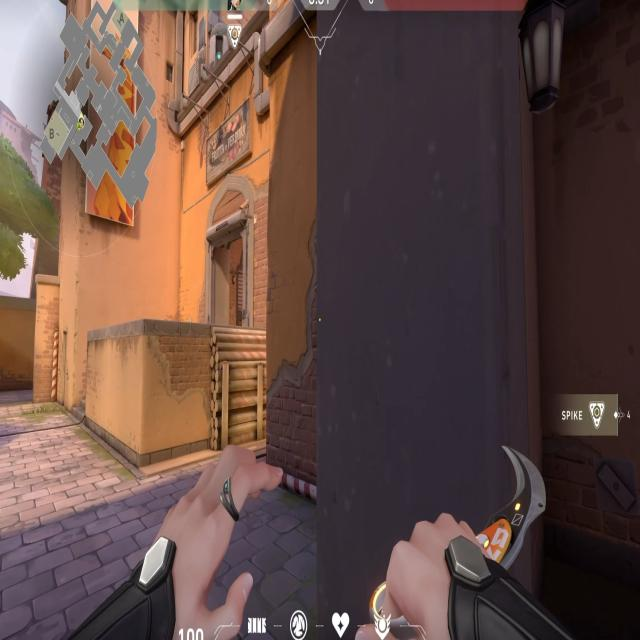B_Cubby: (131, 316, 272, 466)
